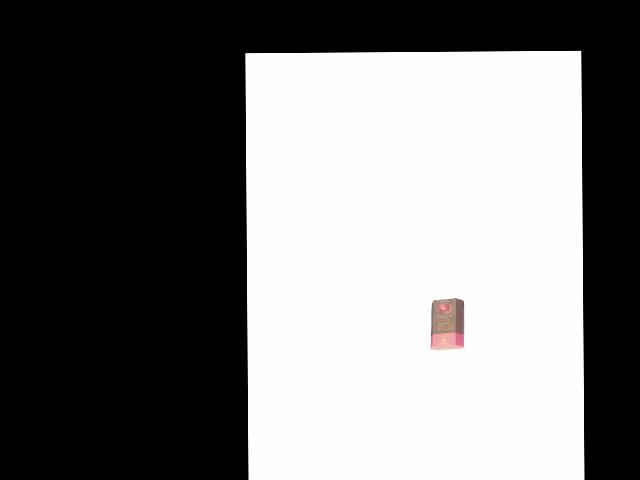chocolate: (429, 293, 465, 352)
